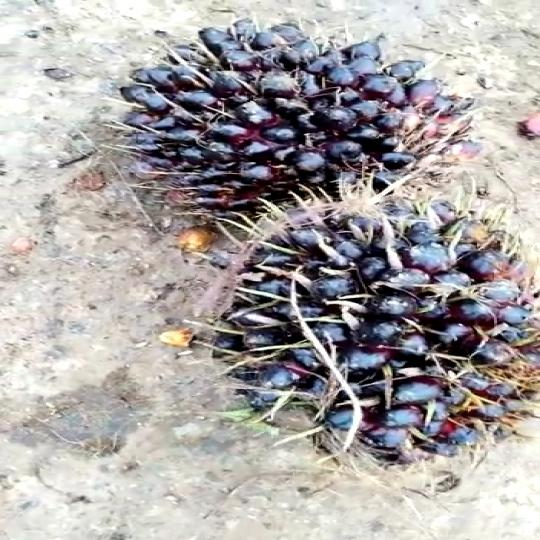mentah: (193, 178, 540, 464), (116, 16, 488, 219)
